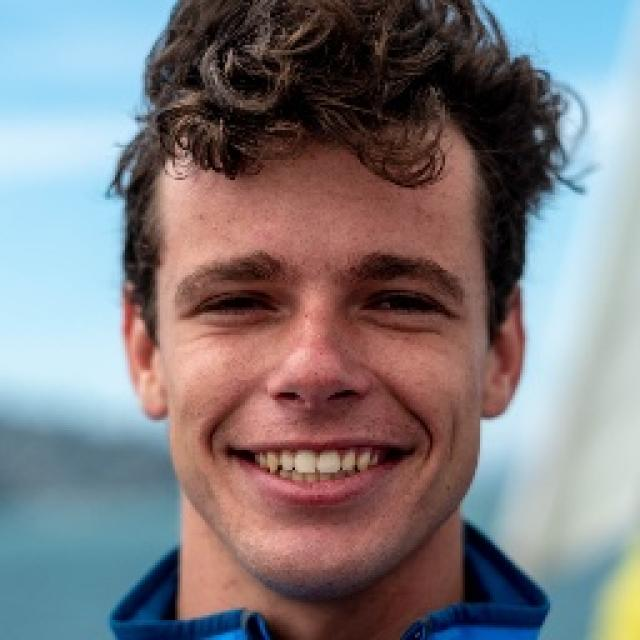earlobe: (119, 279, 170, 422), (480, 282, 526, 421)
